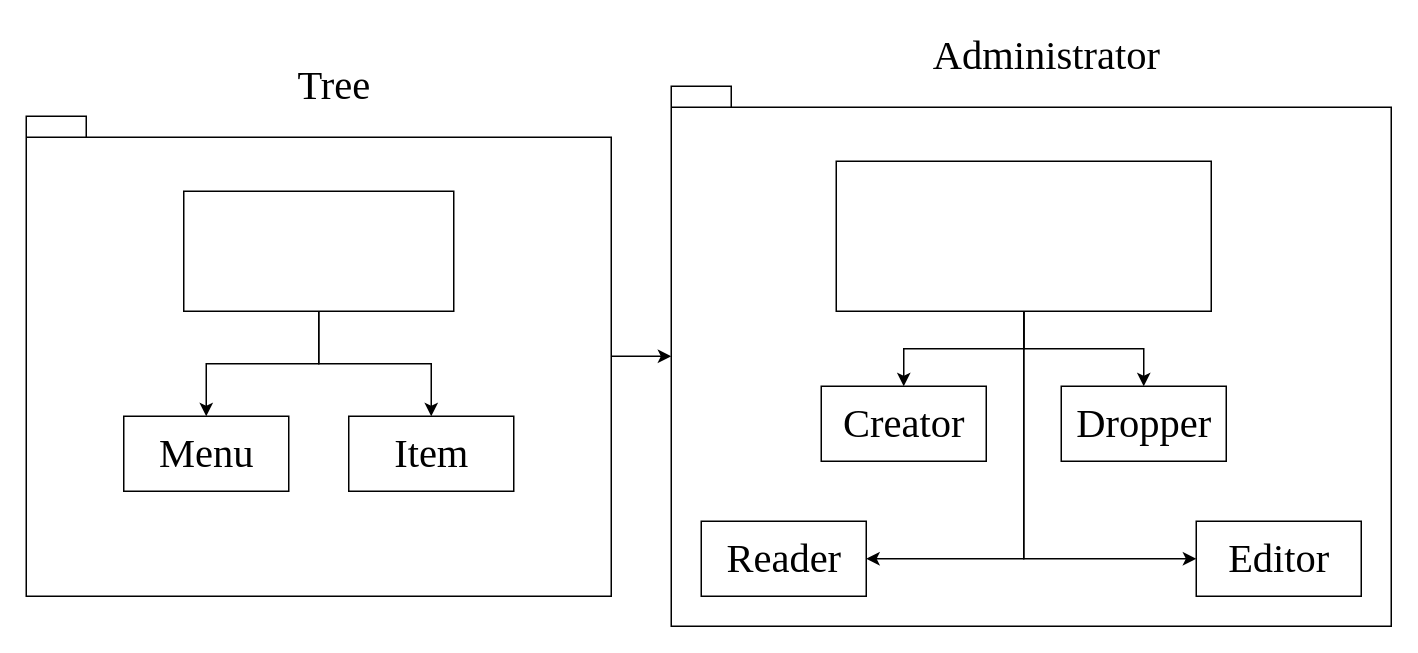
This 1418x653 diagram has some shape labels left out. Here are the shapes that lost their labels. From the top down, the box of each, then its label:
(182, 190, 454, 311): «interface» Muttable
(835, 160, 1211, 311): Manager
